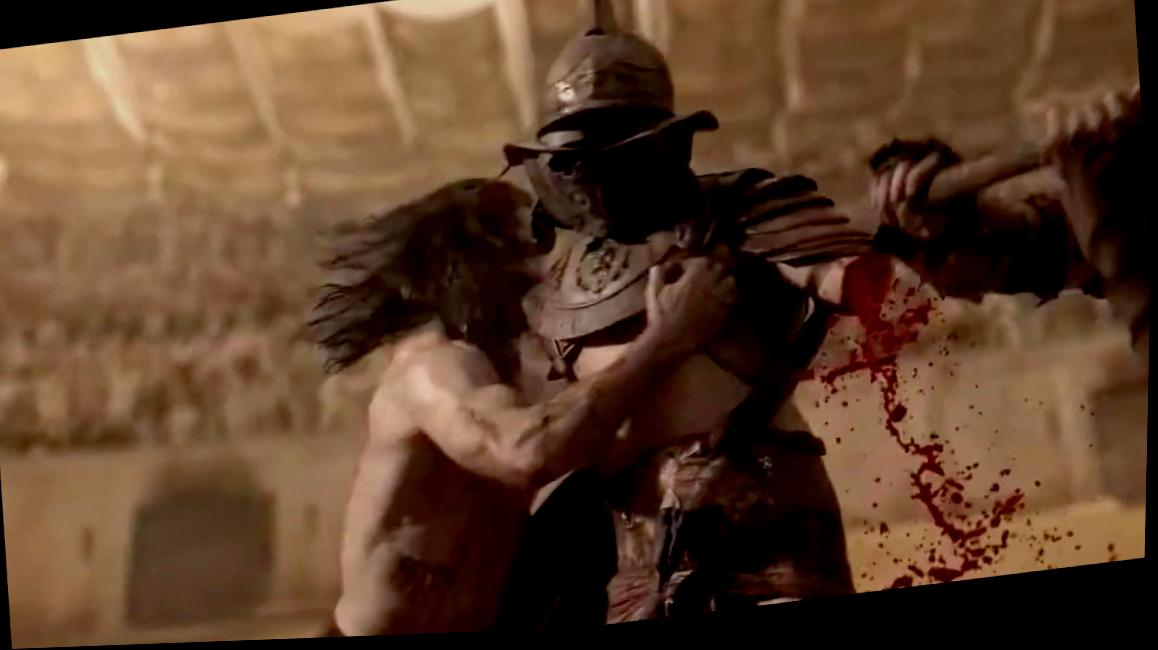Fire: (809, 259, 1148, 600)
